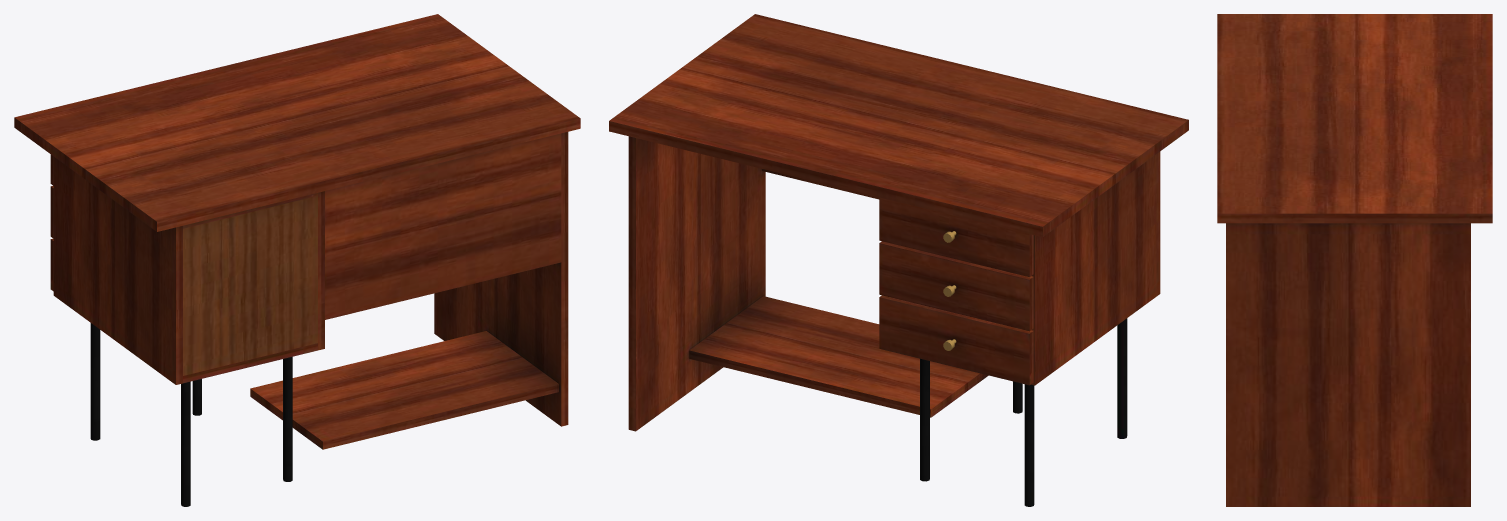
Rendered from desk_school_web.glb.
3 views of the same model, side by side, from view 1: azimuth 30°, elevation 25°; view 2: azimuth 150°, elevation 25°; view 3: azimuth 270°, elevation 25° (orthographic). The views are drawn at different scales.
Visible parts, largest first — view 1: DeskSchool_Body; view 2: DeskSchool_Body, Drawer_1_2_Mesh, Drawer_1_1_Mesh, Drawer_1_3_Mesh; view 3: DeskSchool_Body.
Part boxes in pixels (box(x1,y1,x2,y2)): DeskSchool_Body: box(14, 14, 580, 506); DeskSchool_Body: box(609, 14, 1188, 506); Drawer_1_2_Mesh: box(879, 241, 1033, 331); Drawer_1_1_Mesh: box(879, 295, 1033, 385); Drawer_1_3_Mesh: box(879, 197, 1033, 276); DeskSchool_Body: box(1217, 14, 1492, 506).
Size of the model in its own units: 1.08 by 0.75 by 0.63.
2 materials, 2 textured.
